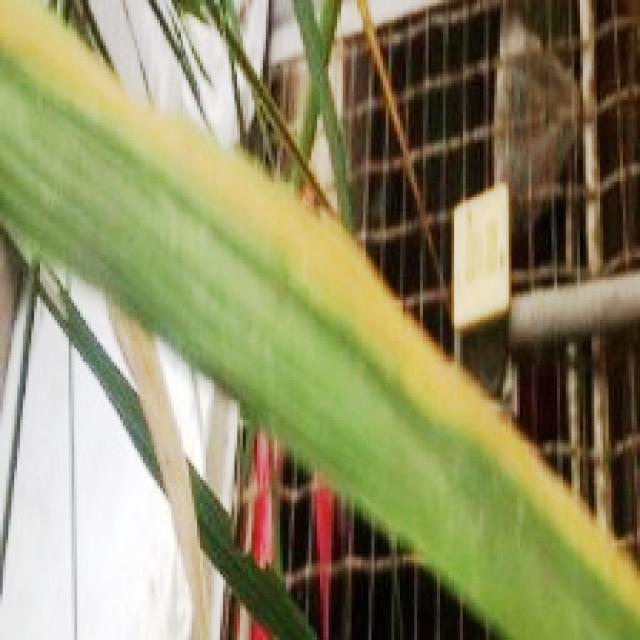unhealth: (2, 0, 640, 640)
